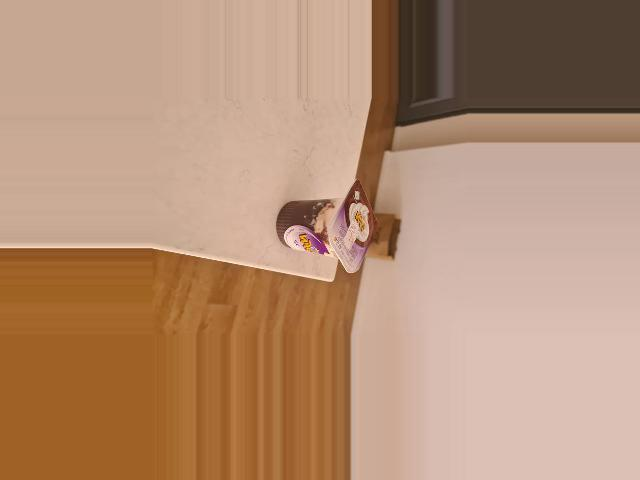milky: (275, 180, 378, 272)
